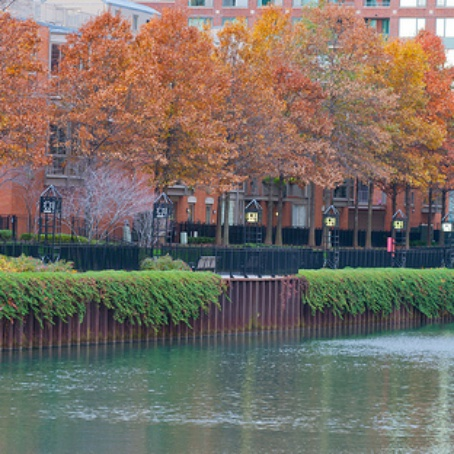river: (17, 329, 454, 454)
vegetation: (3, 6, 454, 222)
